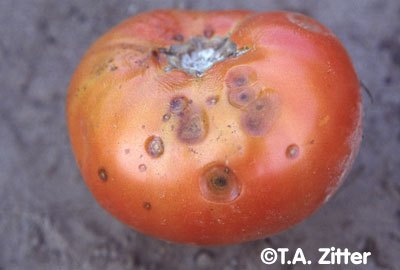anthracnose: (144, 27, 293, 136)
